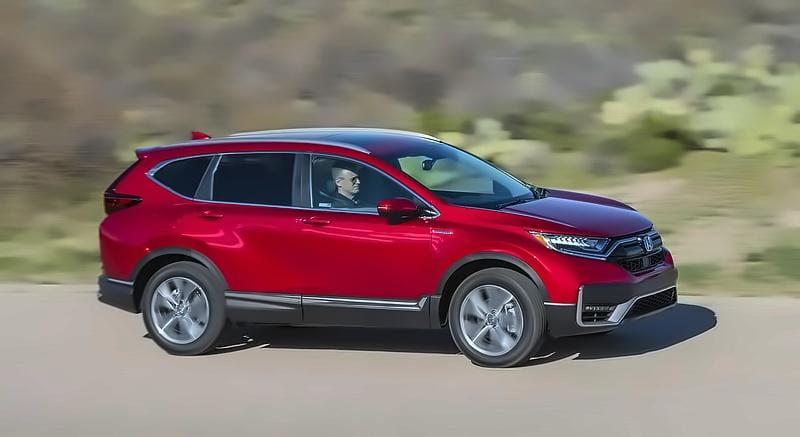Car hood: (506, 182, 656, 236)
Driver-s door - -F-R-: (302, 141, 431, 298)
Fender - -F-R-: (422, 199, 567, 312)
Fender - -R-R-: (97, 181, 200, 291)
Front bumper: (540, 255, 685, 340)
Headlight - -R-: (519, 222, 613, 257)
Passenger-s door - -R-R-: (192, 141, 302, 294)
Rear bumper: (93, 272, 155, 323)
Rear light - -R-: (99, 182, 147, 218)
Side bumper - -R-: (217, 288, 453, 334)
Side mirror - -R-: (371, 193, 427, 223)
